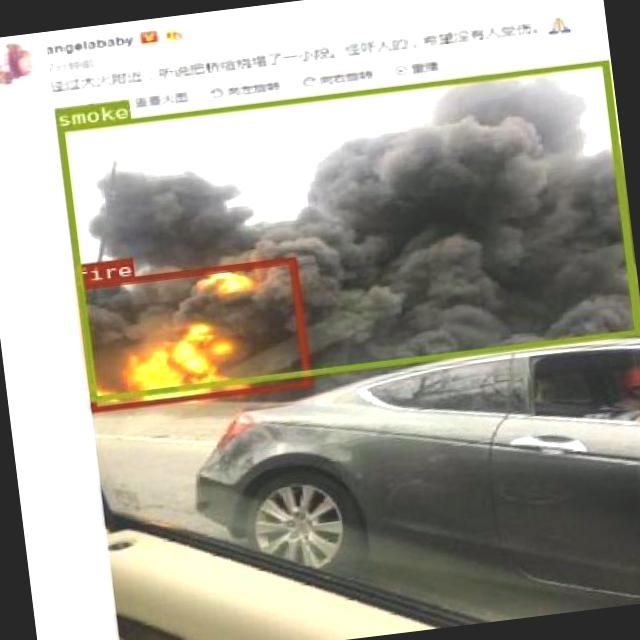fire: (72, 256, 309, 411)
smoke: (54, 58, 640, 401)
